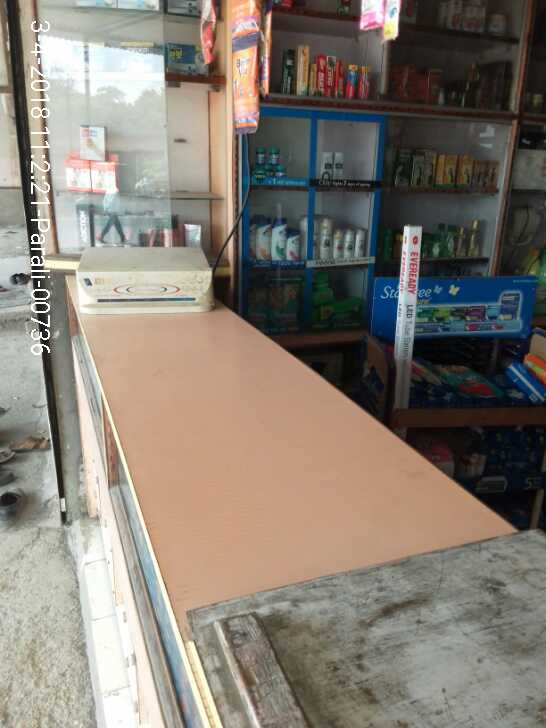vicks: (250, 145, 286, 180)
